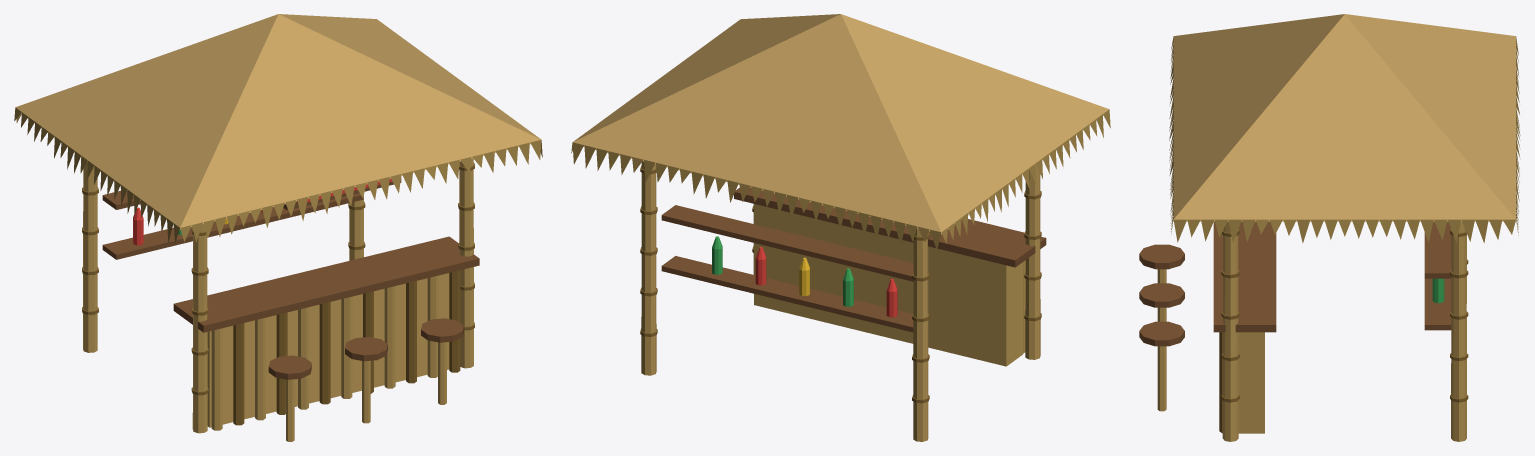
The model's file is Prop_TikiBar.fbx.
The picture shows the model from 3 angles, left to right: view 1: azimuth 30°, elevation 25°; view 2: azimuth 150°, elevation 25°; view 3: azimuth 270°, elevation 25°; orthographic projection. The views are drawn at different scales.
Parts seen in each view (by area): view 1: Prop_TikiBar.001; view 2: Prop_TikiBar.001; view 3: Prop_TikiBar.001.
Boxes of the visible parts, x1=… form: Prop_TikiBar.001: x1=14, y1=14, x2=542, y2=441; Prop_TikiBar.001: x1=571, y1=14, x2=1110, y2=441; Prop_TikiBar.001: x1=1139, y1=14, x2=1520, y2=441.
Size of the model in its own units: 3.88 by 3.45 by 3.34.
